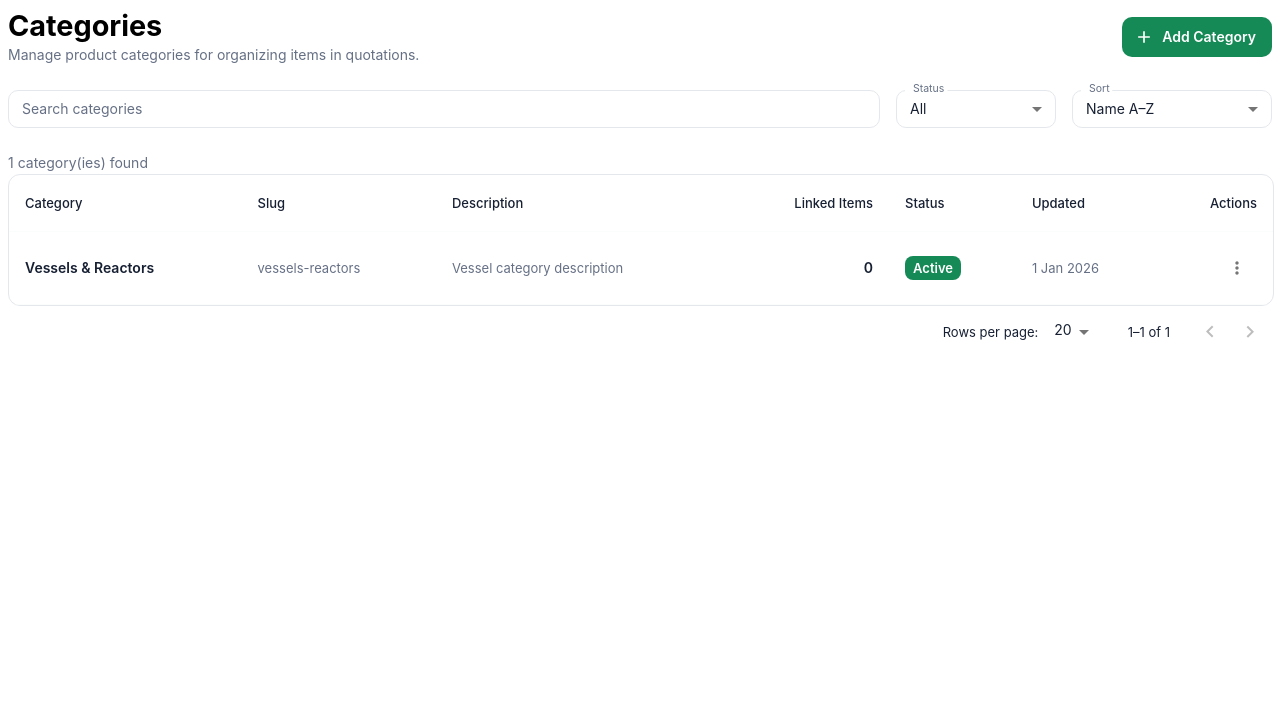
Test case: category frontend › opens category details and preserves the edit action from the details dialog
The width and height of the screenshot is (1280, 720).
Expected: the text "Vessels & Reactors" is shown, [25, 257, 154, 279]
Click the button named "actions for vessels & reactors". click: point(1237, 268)
box: [1217, 248, 1257, 288]
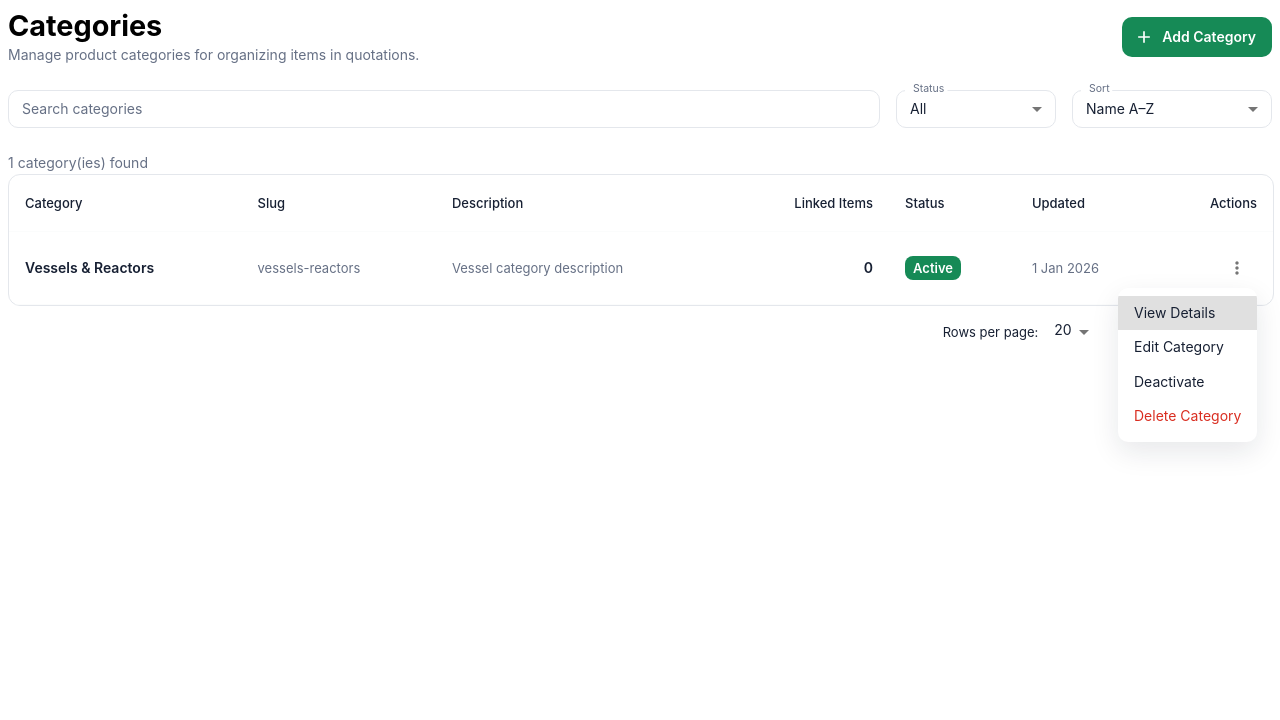
Click the menu item "View Details". click: point(1188, 313)
box: [1118, 296, 1257, 330]
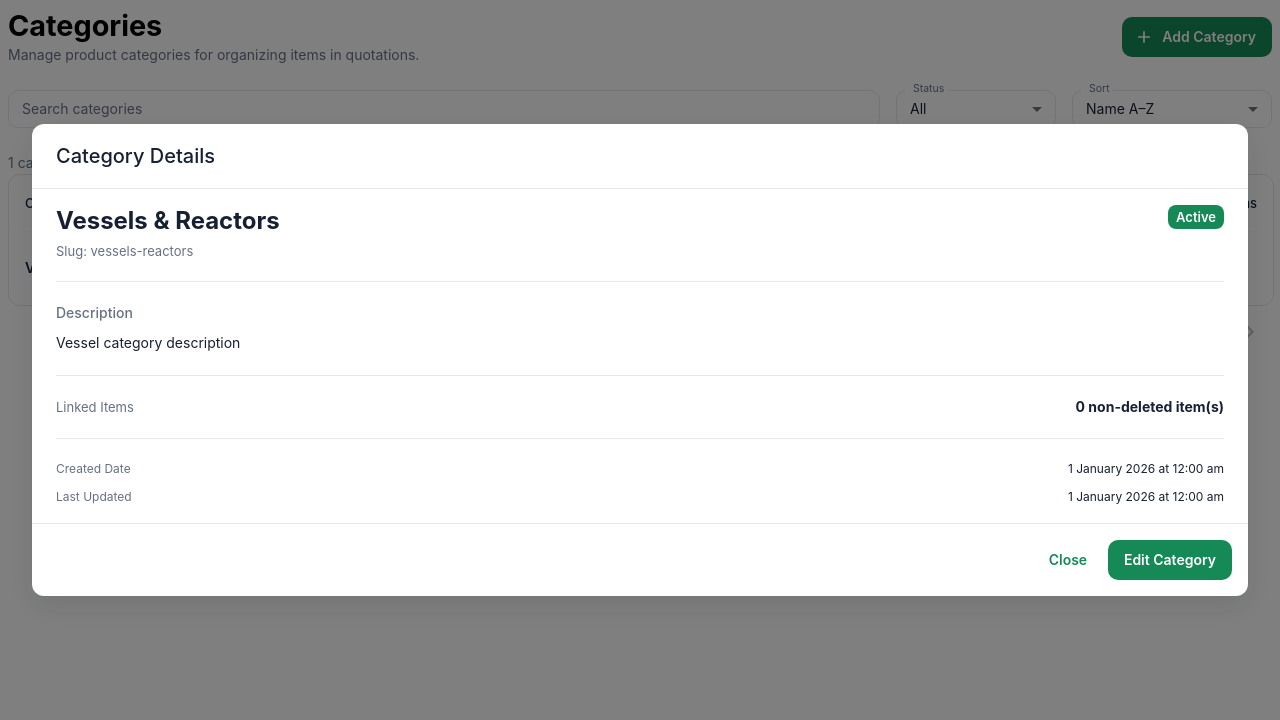
Expected: the button "Edit Category" is shown, [1108, 540, 1232, 580]
Expected: the dialog "Category Details" is shown
